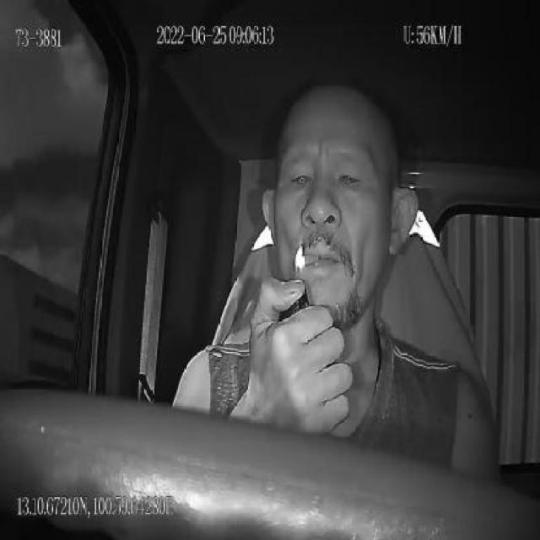smoking: (298, 247, 320, 269)
